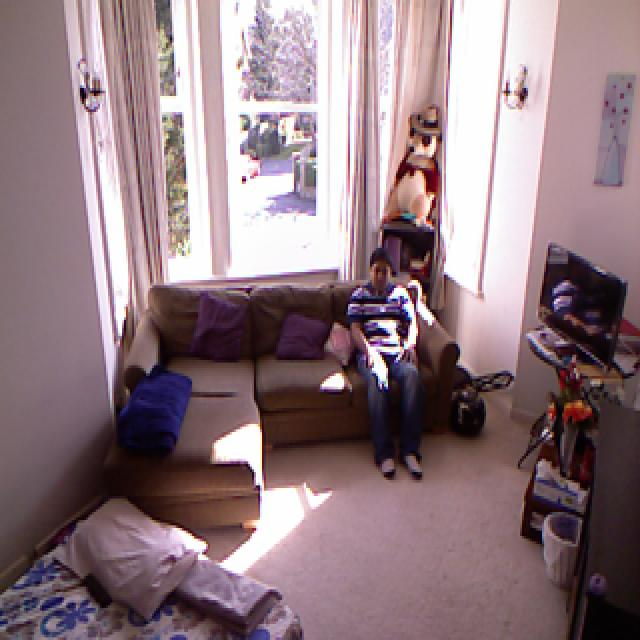sitting: (348, 248, 434, 487)
